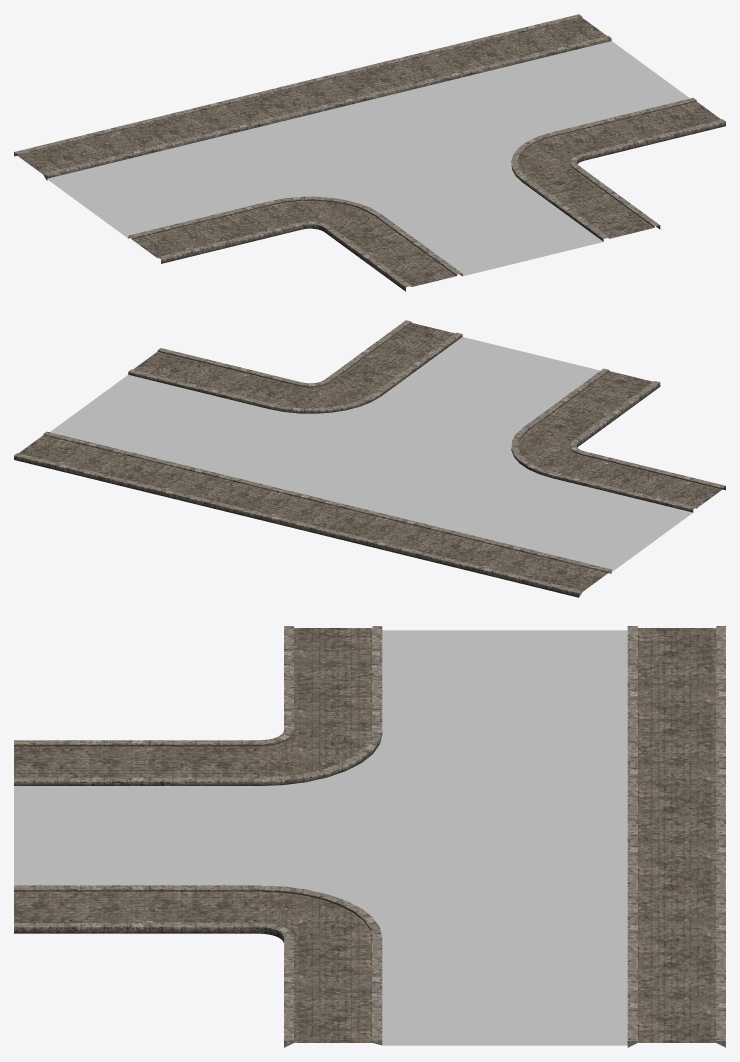
File: Road8.fbx
3 renders of one model, top to bottom at view 1: azimuth 30°, elevation 25°; view 2: azimuth 150°, elevation 25°; view 3: azimuth 270°, elevation 25°, orthographic. The views are drawn at different scales.
Parts seen in each view (by area): view 1: polySurface55; view 2: polySurface55; view 3: polySurface55.
Part boxes in pixels (box(x1,y1,x2,y2)): polySurface55: box(14, 14, 725, 291); polySurface55: box(14, 320, 725, 597); polySurface55: box(14, 626, 725, 1047).
Size of the model in its own units: 20 by 0.1527 by 14.5.
